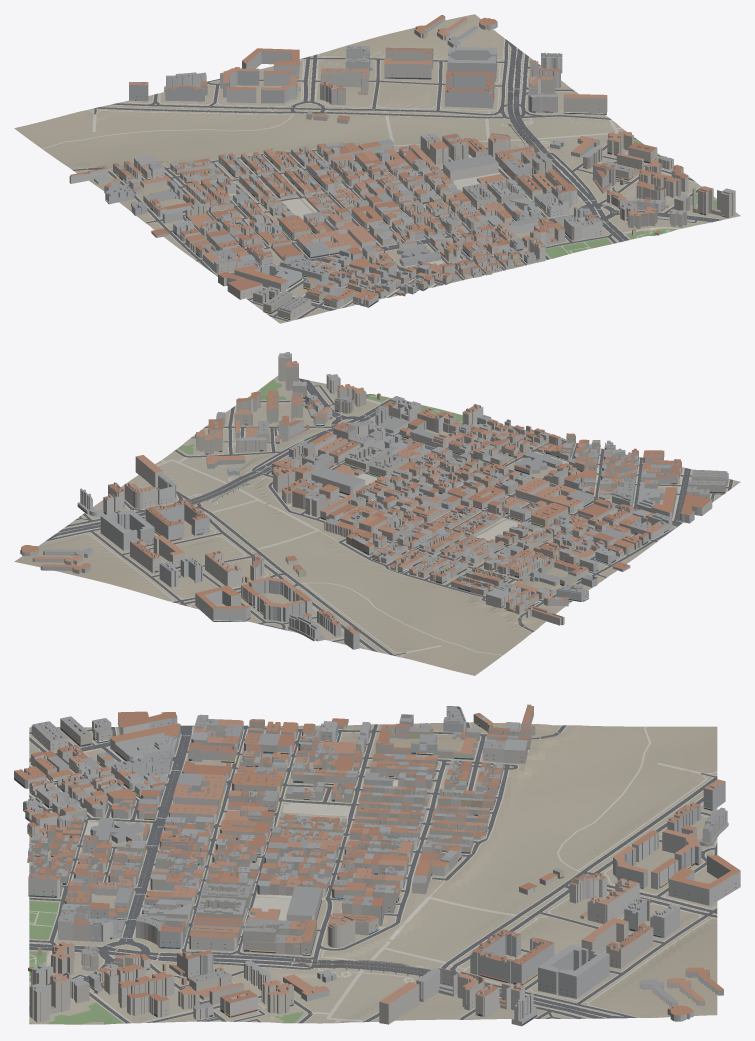
3 views of the same model, one above another, from view 1: azimuth 30°, elevation 25°; view 2: azimuth 150°, elevation 25°; view 3: azimuth 270°, elevation 25° (orthographic). The views are drawn at different scales.
Parts seen in each view (by area): view 1: Walls, Roofs, Ground, Sidewalk, Road, Detail, Park, Deck; view 2: Walls, Roofs, Ground, Sidewalk, Road, Detail, Park, Deck; view 3: Walls, Ground, Roofs, Road, Sidewalk, Detail, Park, Deck, Struct.
Boxes of the visible parts, x1,y1,x2,y2 form: Walls: (69,16,735,320); Roofs: (70,15,735,313); Ground: (14,14,739,323); Sidewalk: (42,38,724,321); Road: (72,39,723,321); Detail: (105,60,725,319); Park: (545,140,740,258); Deck: (88,89,553,169); Walls: (20,353,728,649); Roofs: (21,352,728,638); Ground: (14,376,740,675); Sidewalk: (44,380,733,657); Road: (45,378,733,656); Detail: (77,390,729,632); Park: (178,379,462,454); Deck: (138,465,524,626); Walls: (14,705,740,1026); Ground: (29,722,717,1024); Roofs: (14,704,740,1021); Road: (29,722,717,1023); Sidewalk: (29,722,717,1023); Detail: (14,723,736,1025); Park: (29,901,608,1024); Deck: (291,733,558,996); Struct: (290,732,560,996).
Size of the model in its own units: 1062 by 53.47 by 1057.
